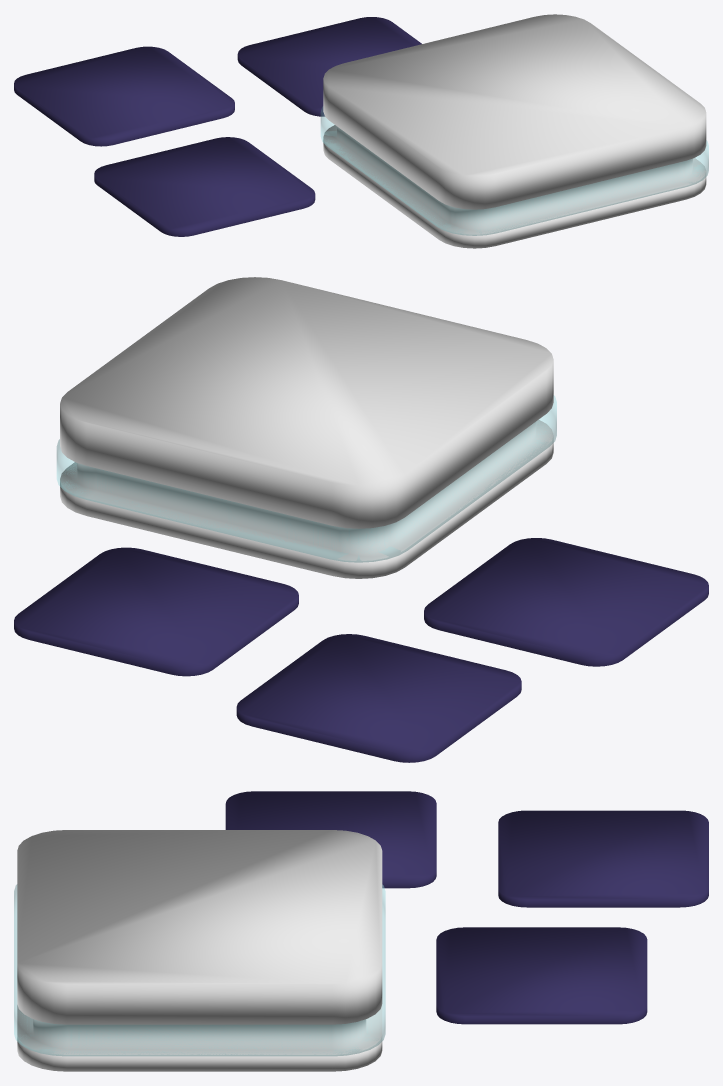
The model's file is sol_trone.glb.
3 renders of one model, top to bottom at view 1: azimuth 30°, elevation 25°; view 2: azimuth 150°, elevation 25°; view 3: azimuth 270°, elevation 25°, orthographic. The views are drawn at different scales.
Visible parts, largest first — view 1: Plane.001, Plane.006, Plane.004, Plane.002, Plane.003; view 2: Plane.001, Plane.006, Plane.003, Plane.004, Plane.002; view 3: Plane.001, Plane.003, Plane.006, Plane.002, Plane.004.
Part boxes in pixels (box(x1,y1,x2,y2)): Plane.001: box(323, 14, 706, 248); Plane.006: box(14, 46, 234, 146); Plane.004: box(94, 137, 315, 236); Plane.002: box(321, 107, 708, 235); Plane.003: box(237, 17, 421, 116); Plane.001: box(60, 277, 553, 578); Plane.006: box(236, 634, 521, 762); Plane.003: box(14, 547, 298, 676); Plane.004: box(424, 538, 708, 666); Plane.002: box(57, 396, 556, 562); Plane.001: box(17, 830, 382, 1071); Plane.003: box(436, 927, 647, 1024); Plane.006: box(498, 810, 708, 907); Plane.002: box(14, 885, 385, 1055); Plane.004: box(225, 791, 436, 888).
Size of what is drawn, in the model's own units: 7.97 by 1.19 by 8.55.
